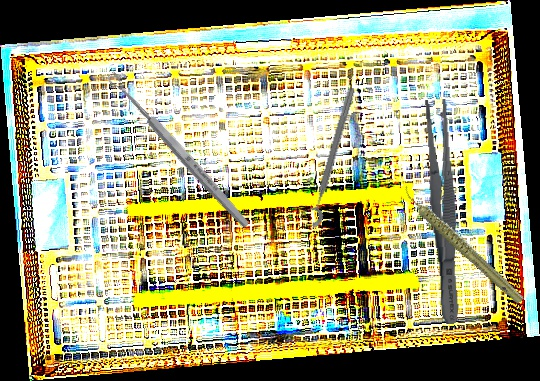Dressing Forceps: (420, 98, 466, 325)
Fixation Ring: (297, 83, 360, 230)
Handpiece: (400, 164, 527, 324)
Surgical Spoon: (105, 69, 252, 231)
